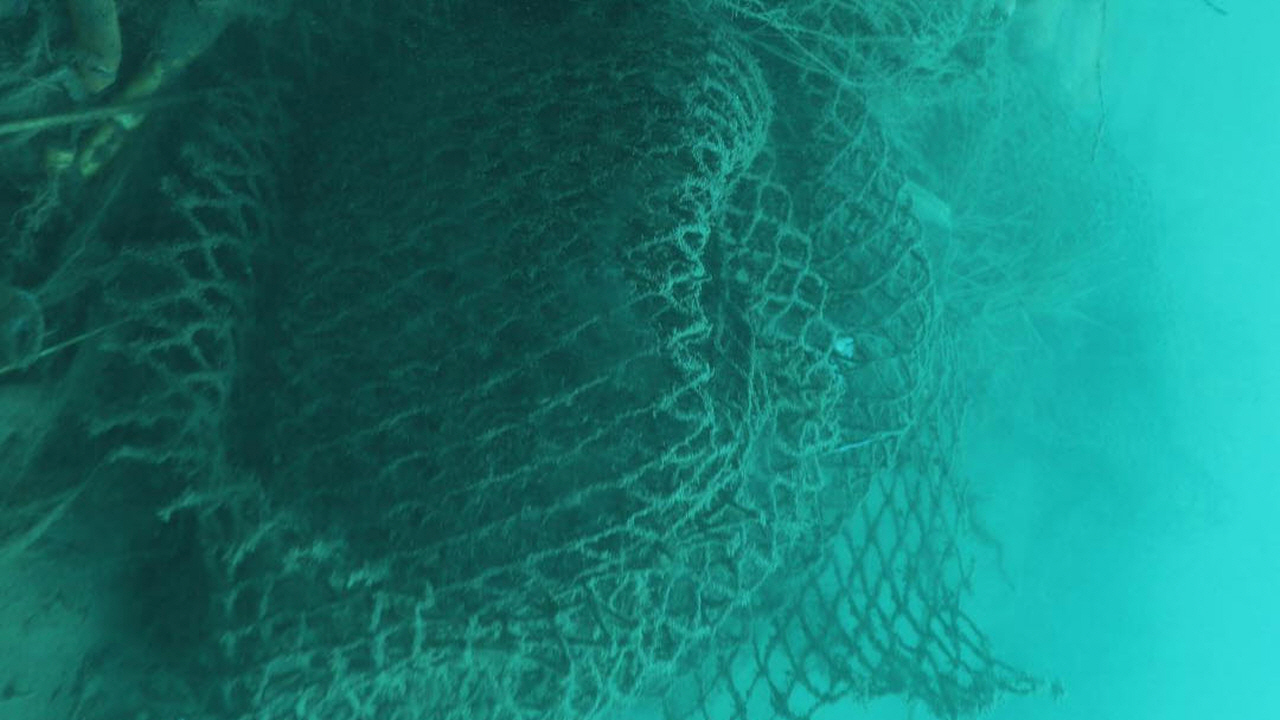fish net: (136, 0, 1039, 720)
